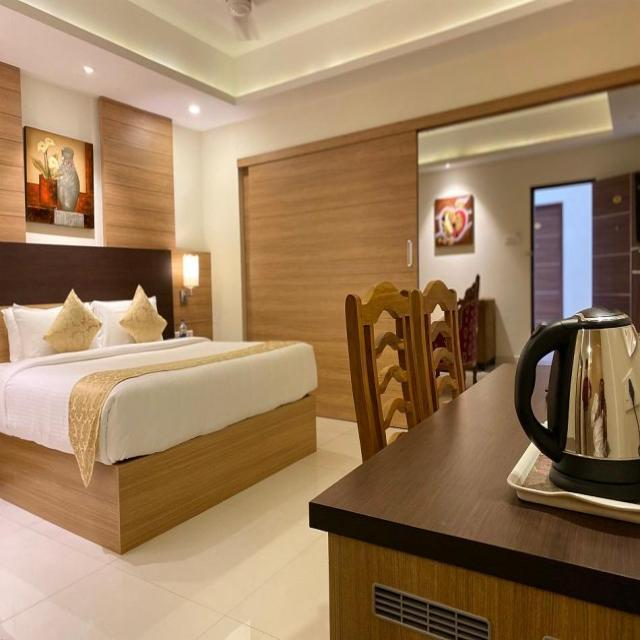bed: (0, 240, 317, 555)
